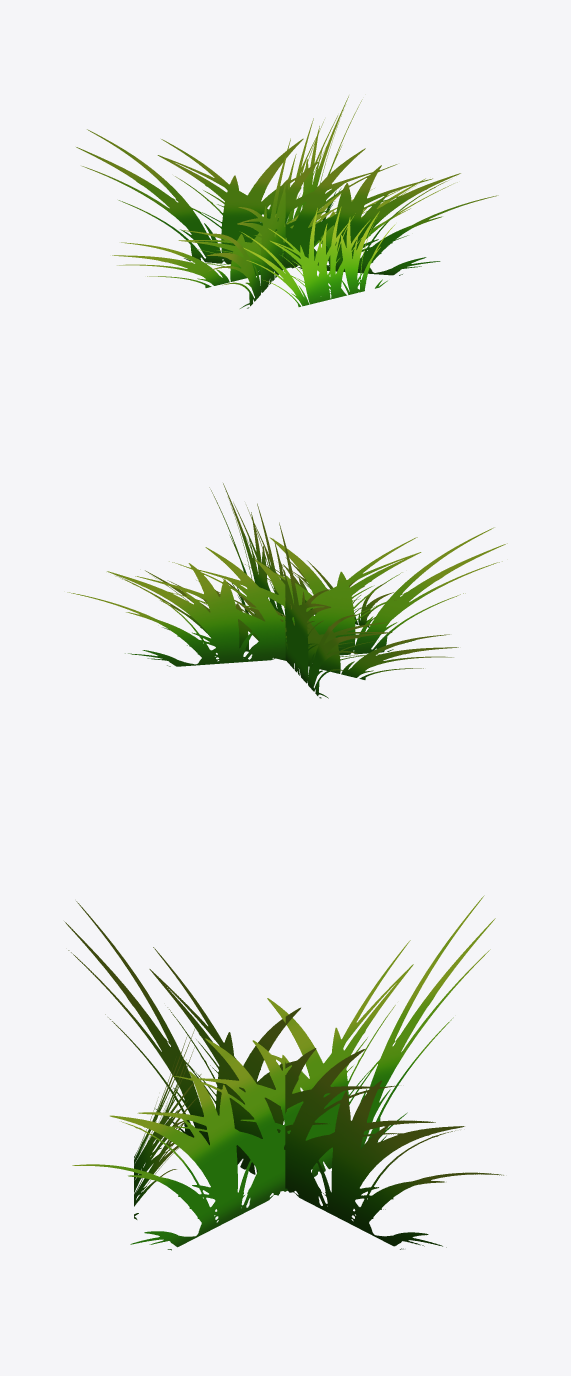
Rendered from weed-small.fbx.
The picture shows the model from 3 angles, top to bottom: view 1: azimuth 30°, elevation 25°; view 2: azimuth 150°, elevation 25°; view 3: azimuth 270°, elevation 25°; orthographic projection. The views are drawn at different scales.
Visible parts, largest first — view 1: Small-weed; view 2: Small-weed; view 3: Small-weed.
Part boxes in pixels (x1,y1,x2,y2): Small-weed: (76, 96, 498, 308); Small-weed: (67, 483, 507, 698); Small-weed: (64, 895, 503, 1250).
Bounding box in the file's own units: 240 × 81.95 × 163.
Materials: 1 (1 with a texture image).
